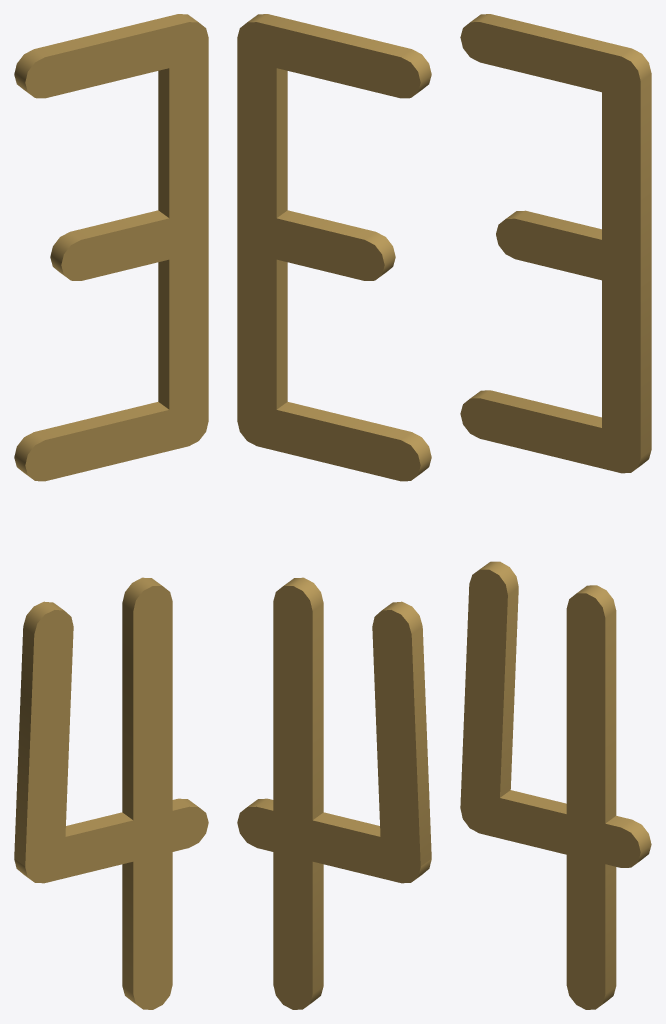
File: NM1_stacked.glb
The picture shows the model from 3 angles, left to right: view 1: azimuth 30°, elevation 25°; view 2: azimuth 150°, elevation 25°; view 3: azimuth 330°, elevation 25°; orthographic projection.
Visible parts, largest first — view 1: iron_numerals; view 2: iron_numerals; view 3: iron_numerals.
Part boxes in pixels (x1,y1,x2,y2): iron_numerals: (14, 14, 208, 1009); iron_numerals: (237, 14, 431, 1009); iron_numerals: (460, 14, 651, 1009).
Bounding box in the file's own units: 0.0326 × 0.1662 × 0.0034.
